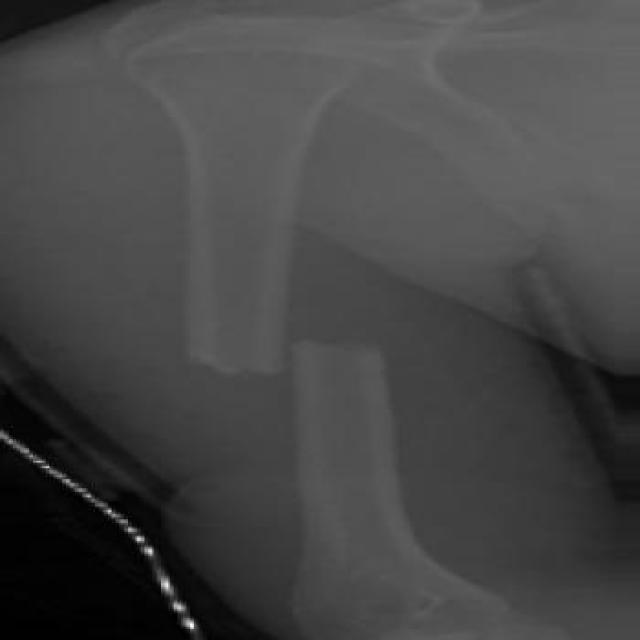Fracture: (146, 322, 426, 386)
